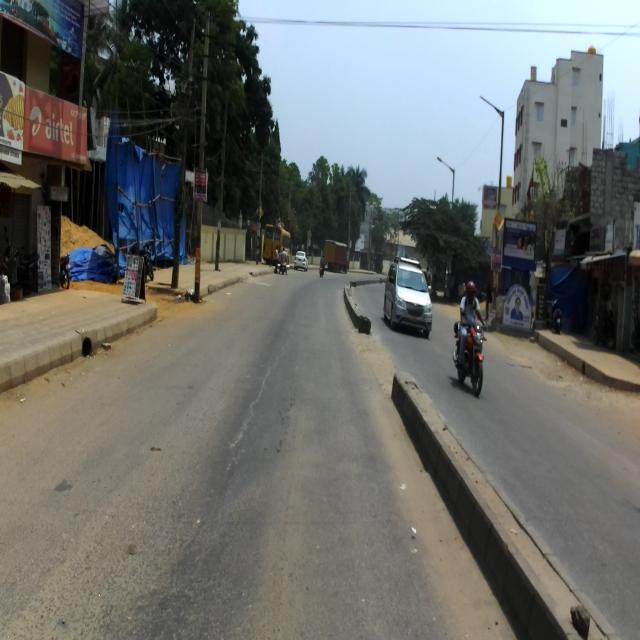electric pole ahead at: (190, 3, 220, 320)
motorcycle ahead at: (453, 313, 488, 402)
